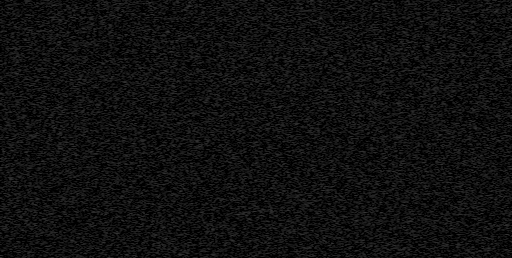wv_am: (295, 0, 301, 258)
wv_cw: (85, 0, 91, 258), (483, 0, 488, 258)
wv_lsb: (455, 3, 461, 258), (411, 3, 417, 208), (411, 209, 417, 258)
wv_wbfm: (435, 0, 443, 258), (417, 0, 425, 258), (4, 0, 11, 258)
